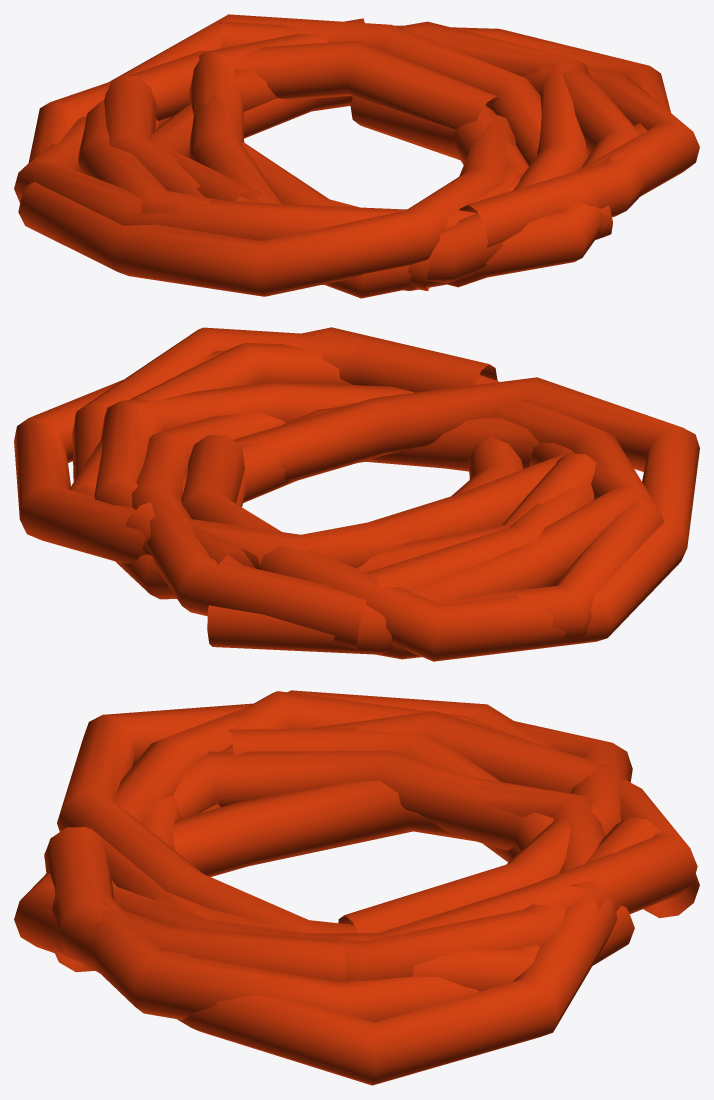
Rendered from espagueti.obj.
3 views of the same model, one above another, from view 1: azimuth 30°, elevation 25°; view 2: azimuth 150°, elevation 25°; view 3: azimuth 270°, elevation 25° (orthographic). The views are drawn at different scales.
Parts seen in each view (by area): view 1: espagueti; view 2: espagueti; view 3: espagueti.
Boxes of the visible parts, <box> form: espagueti: <box>14,14,699,298</box>; espagueti: <box>14,327,699,661</box>; espagueti: <box>14,690,699,1085</box>.
Bounding box in the file's own units: 0.4518 × 0.0592 × 0.3821.
